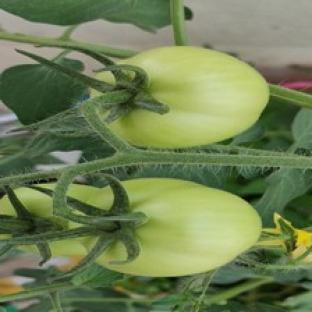Tomato: (98, 179, 261, 277), (111, 46, 268, 147), (14, 189, 77, 228)
